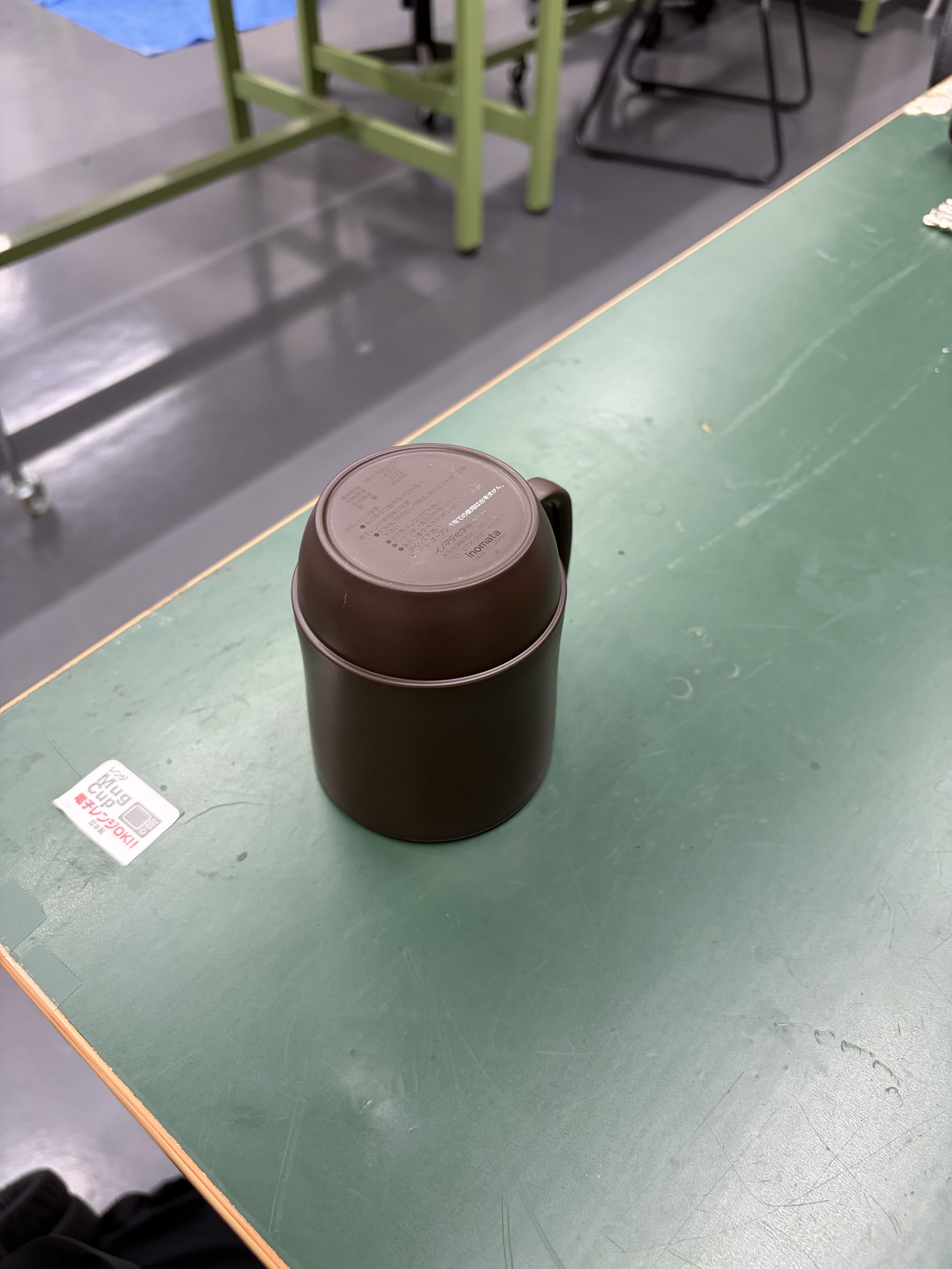mug-real100-3d100: (292, 443, 572, 843)
